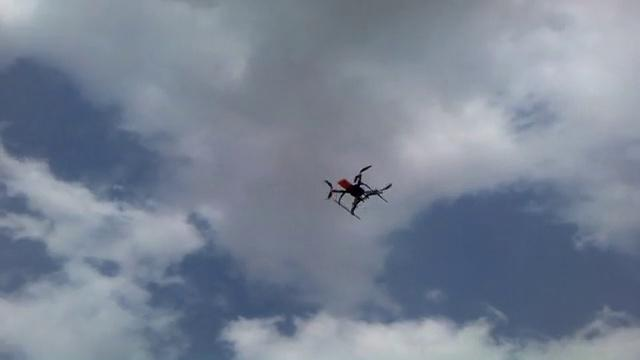drone: (321, 161, 392, 219)
